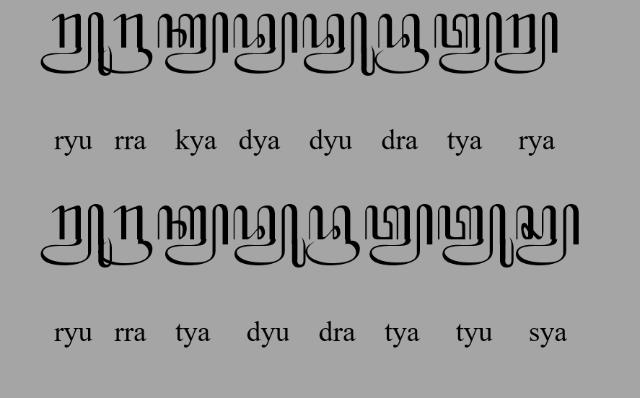dr: (304, 204, 360, 265), (374, 14, 428, 74)
dy: (232, 12, 298, 76)
dyu: (302, 12, 376, 77), (232, 204, 306, 268)
ky: (156, 12, 230, 74)
rr: (99, 14, 153, 74), (98, 206, 152, 266)
ry: (495, 12, 559, 74)
ryu: (40, 12, 112, 77), (41, 204, 113, 268)
sy: (514, 203, 580, 266)
ty: (157, 203, 229, 266), (434, 12, 504, 74), (364, 204, 434, 266)
tyu: (438, 204, 514, 268)
